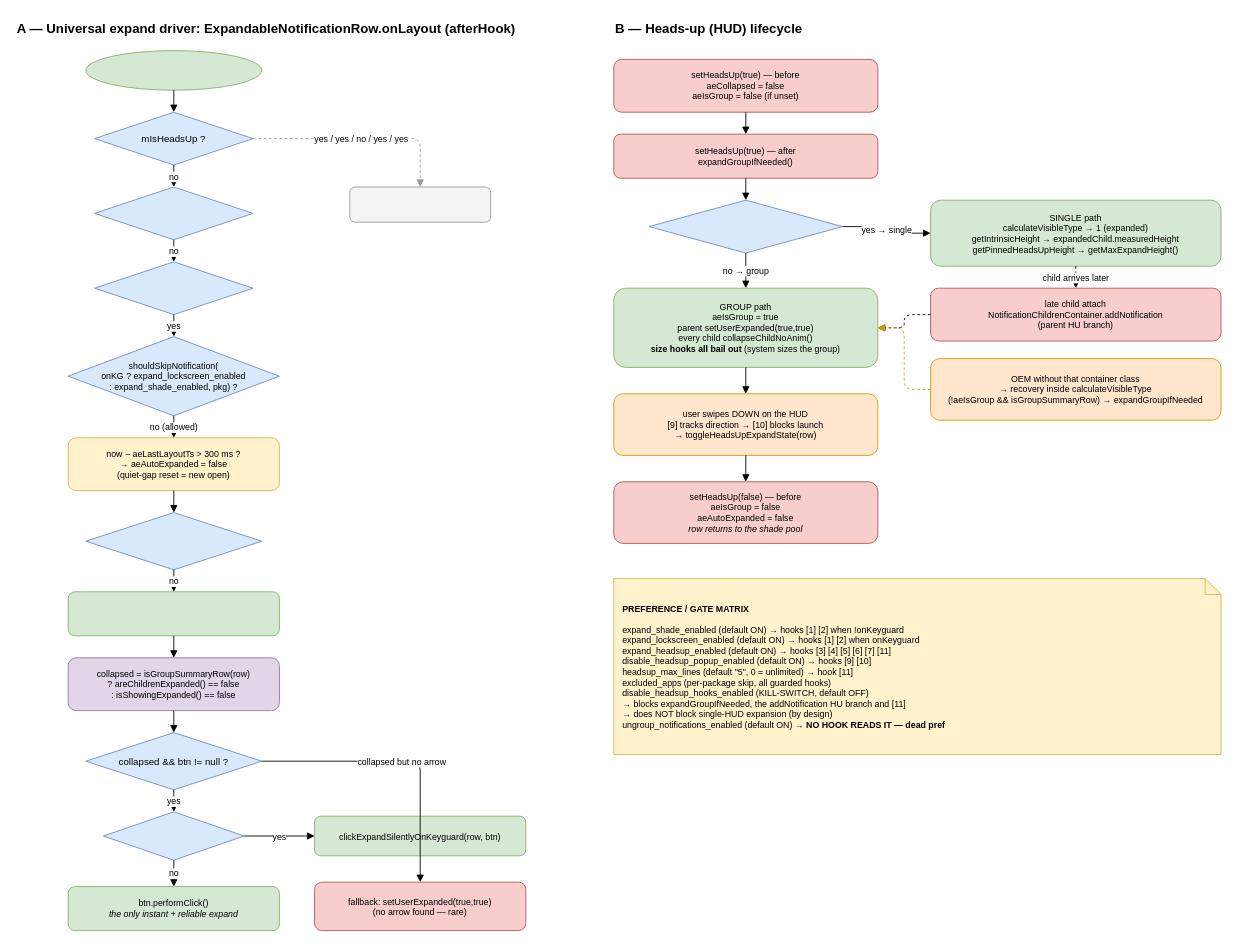
Some shapes in this 1236 by 946 pixel diagram are drawn without their labels. The centre of each missing label's shape, as x and y in pixels:
aeAutoExpanded = true rowView.post { … } ← next frame: the point at 173,613
aeAutoExpanded == true ?: the point at 173,541
childCount == 0 ?: the point at 745,226
isChildInGroup() ?: the point at 173,213
onKG ?: the point at 173,835
onLayout() returns: the point at 173,70
RETURN (no-op): the point at 420,204
rowView.isShown ?: the point at 173,288
